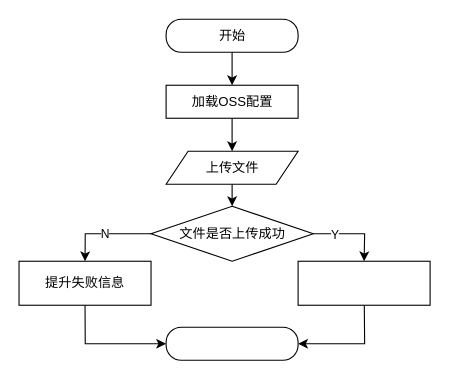
Some shapes in this 450 by 380 pixel diagram are drawn without their labels. Each missing label, with the centre of its shape:
结束: pixel 231 343
返回 对应 文件的URL: pixel 363 282
